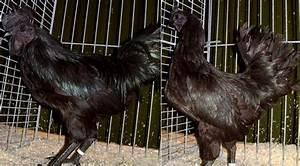hen: (1, 5, 162, 165), (163, 5, 299, 165)
